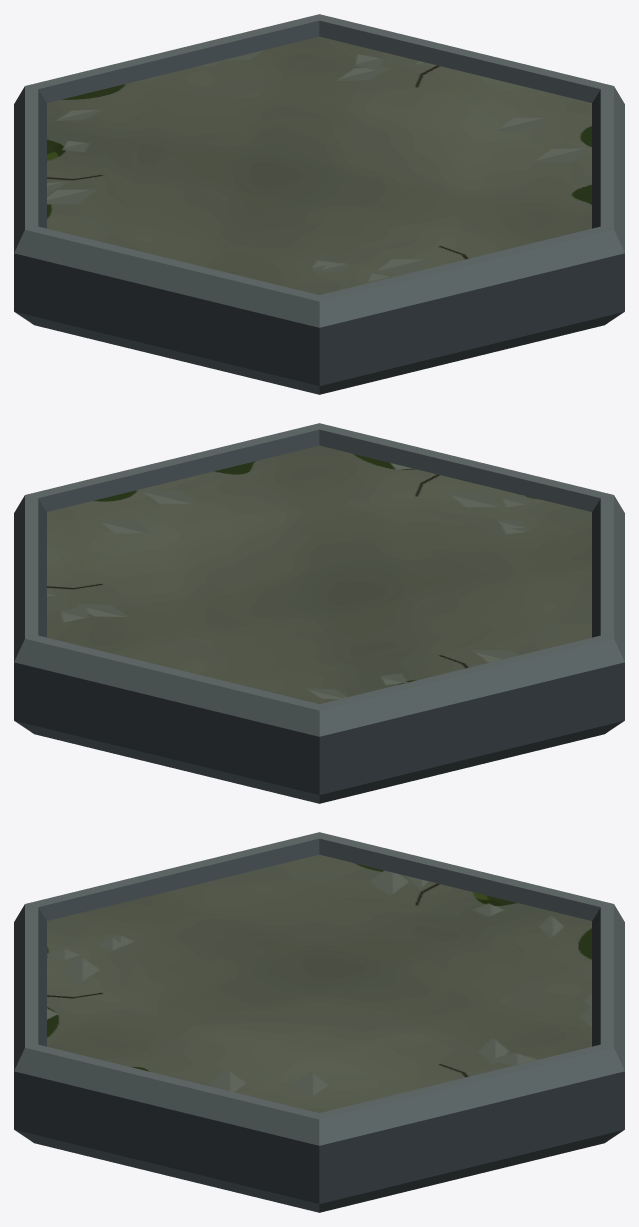
File: Hex_Pedra.glb
3 views of the same model, one above another, from view 1: azimuth 30°, elevation 25°; view 2: azimuth 150°, elevation 25°; view 3: azimuth 270°, elevation 25° (orthographic).
Visible parts, largest first — view 1: Hex_template_2; view 2: Hex_template_2; view 3: Hex_template_2.
Part boxes in pixels (left/top/right/bottom): Hex_template_2: left=14, top=14, right=624, bottom=394; Hex_template_2: left=14, top=423, right=624, bottom=803; Hex_template_2: left=14, top=832, right=624, bottom=1212.
Bounding box in the file's own units: 1.9 × 0.29 × 1.64.
3 materials, 1 textured.
